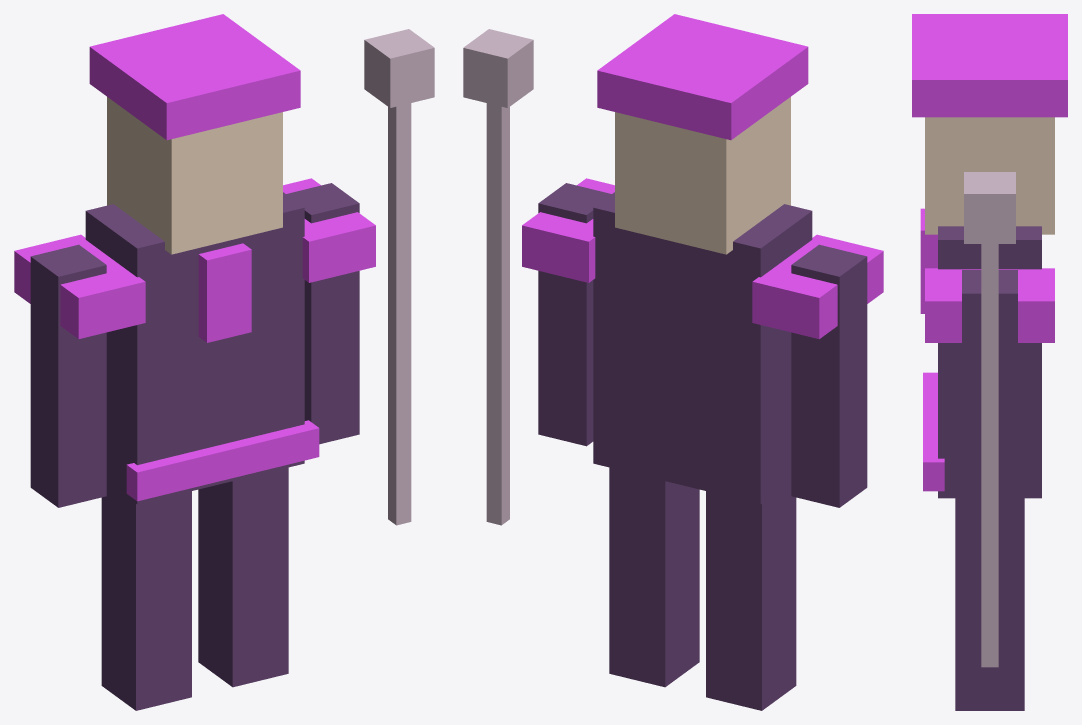
The model's file is 06_talia_ironwake_marshal_from_rooftop.glb.
The picture shows the model from 3 angles, left to right: view 1: azimuth 30°, elevation 25°; view 2: azimuth 150°, elevation 25°; view 3: azimuth 270°, elevation 25°; orthographic projection.
Parts seen in each view (by area): view 1: Talia Ironwake, Marshal from Rooftop; view 2: Talia Ironwake, Marshal from Rooftop; view 3: Talia Ironwake, Marshal from Rooftop.
Part boxes in pixels (x1,y1,x2,y2): Talia Ironwake, Marshal from Rooftop: (14, 14, 434, 710); Talia Ironwake, Marshal from Rooftop: (463, 14, 883, 710); Talia Ironwake, Marshal from Rooftop: (912, 14, 1067, 710).
Bounding box in the file's own units: 0.9914 × 1.56 × 0.3516.
